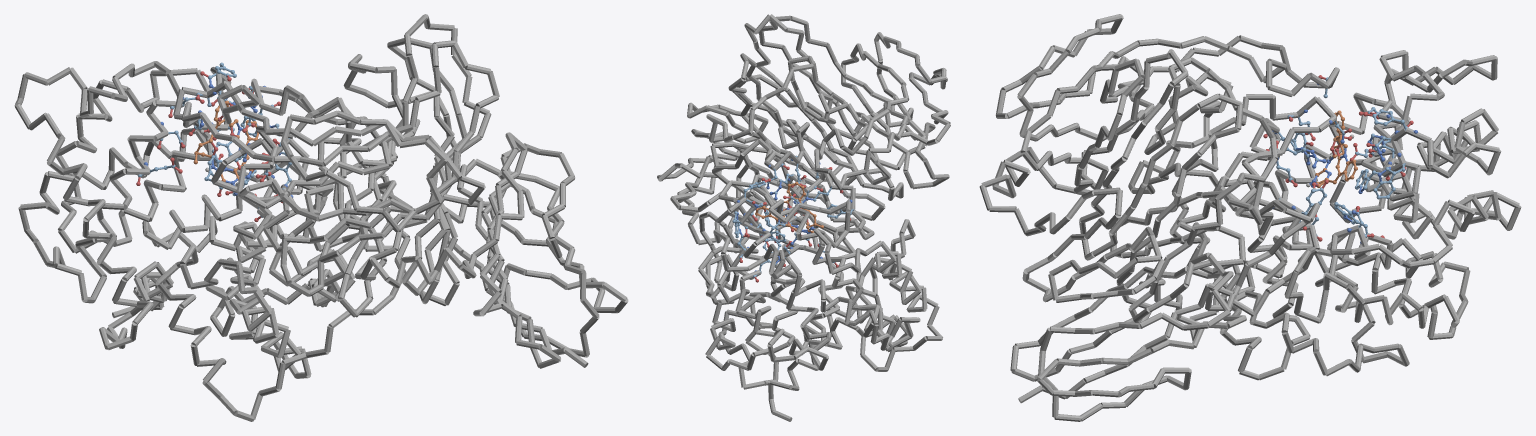
File: XANLY_BACGL.glb
3 renders of one model, left to right at view 1: azimuth 30°, elevation 25°; view 2: azimuth 150°, elevation 25°; view 3: azimuth 270°, elevation 25°, orthographic. The views are drawn at different scales.
Parts seen in each view (by area): view 1: backbone, pocket_residues, ligand; view 2: backbone, pocket_residues, ligand; view 3: backbone, pocket_residues, ligand.
Part boxes in pixels (x1=…): backbone: x1=14, y1=14, x2=628, y2=421; pocket_residues: x1=136, y1=62, x2=293, y2=221; ligand: x1=193, y1=100, x2=265, y2=185; backbone: x1=657, y1=14, x2=950, y2=421; pocket_residues: x1=732, y1=155, x2=854, y2=282; ligand: x1=755, y1=181, x2=823, y2=233; backbone: x1=979, y1=14, x2=1521, y2=421; pocket_residues: x1=1263, y1=75, x2=1417, y2=244; ligand: x1=1306, y1=110, x2=1357, y2=191.
Size of the model in its own units: 69.65 by 59.14 by 78.25.
